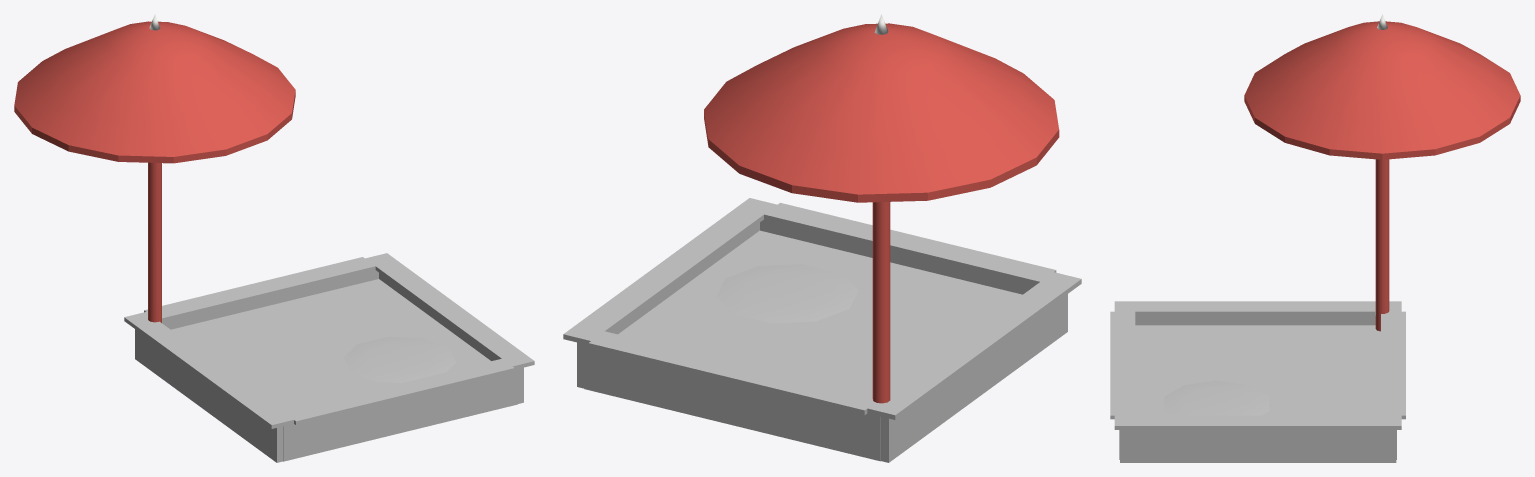
The model's file is playground_sandbox_mushroom.glb.
The picture shows the model from 3 angles, left to right: view 1: azimuth 30°, elevation 25°; view 2: azimuth 150°, elevation 25°; view 3: azimuth 270°, elevation 25°; orthographic projection. The views are drawn at different scales.
Parts seen in each view (by area): view 1: playground_sandbox_mushroom; view 2: playground_sandbox_mushroom; view 3: playground_sandbox_mushroom.
Part boxes in pixels (x1=…): playground_sandbox_mushroom: x1=14, y1=14, x2=534, y2=462; playground_sandbox_mushroom: x1=563, y1=14, x2=1081, y2=462; playground_sandbox_mushroom: x1=1110, y1=14, x2=1520, y2=462.
Bounding box in the file's own units: 2.97 × 2.7 × 2.97.
